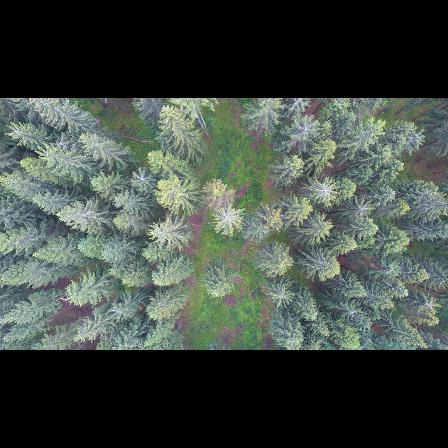Sick: (265, 283, 298, 312), (311, 176, 342, 205), (214, 205, 242, 236), (418, 296, 441, 314)
